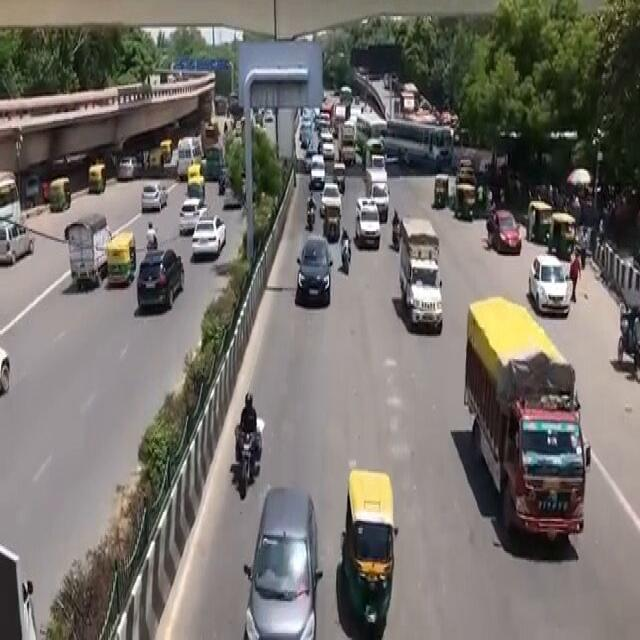three_wheeler: (332, 450, 403, 638)
